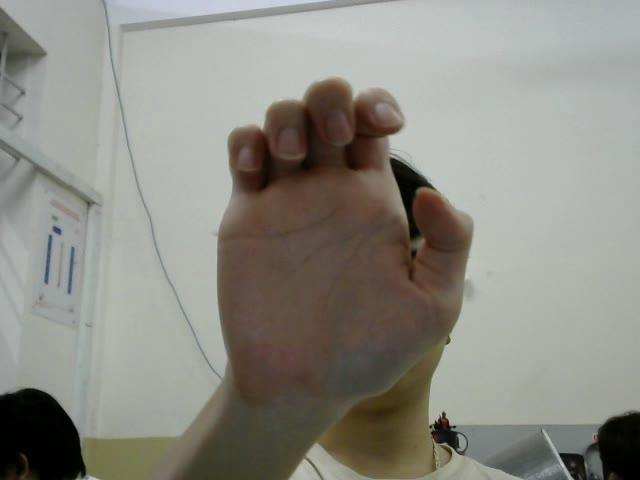E: (213, 72, 473, 402)
